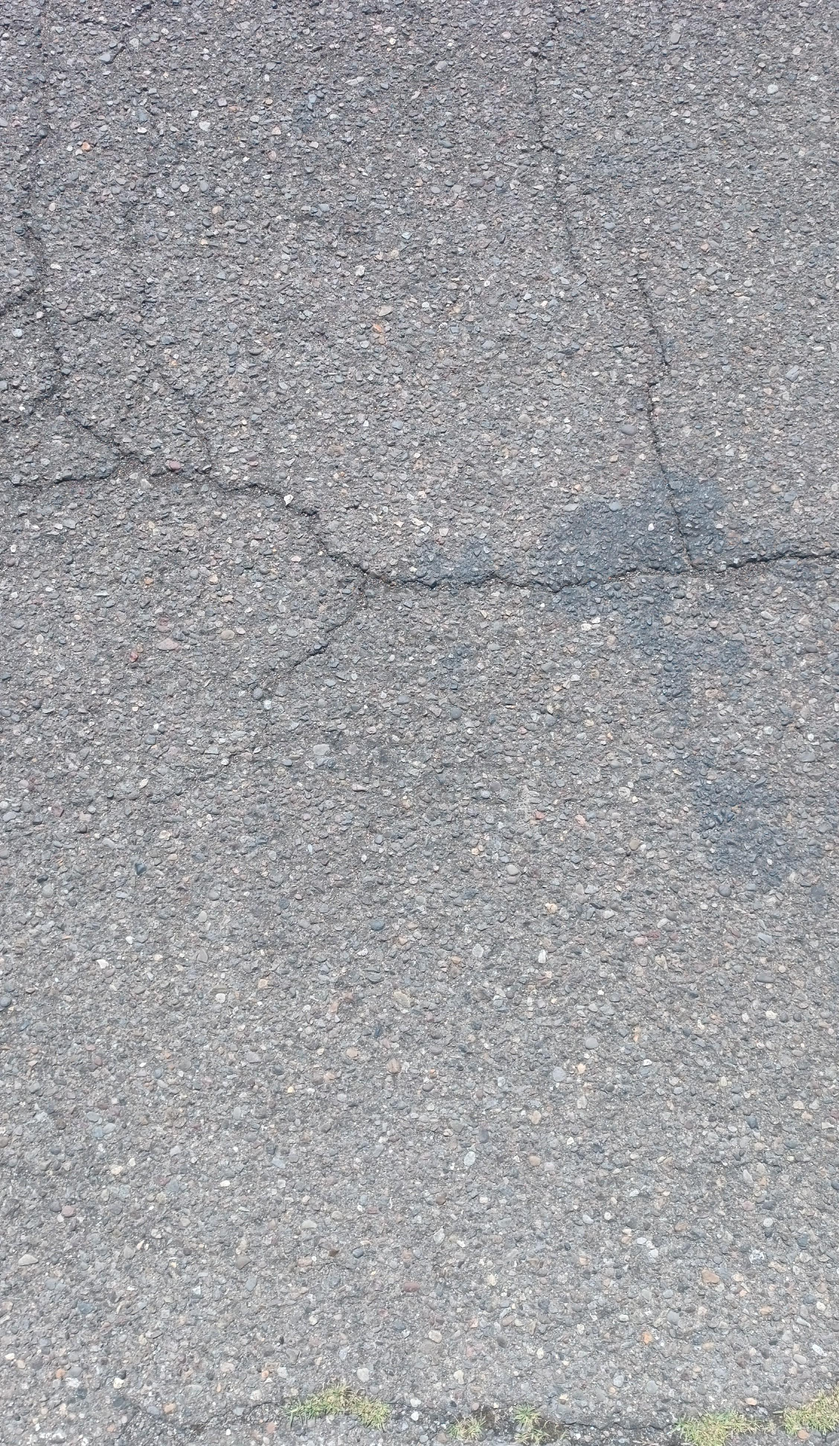GRIETA: (225, 485, 839, 597), (526, 0, 602, 292), (632, 277, 699, 569), (285, 588, 370, 681)
PIEL DE COCODRILO: (0, 0, 226, 522)
